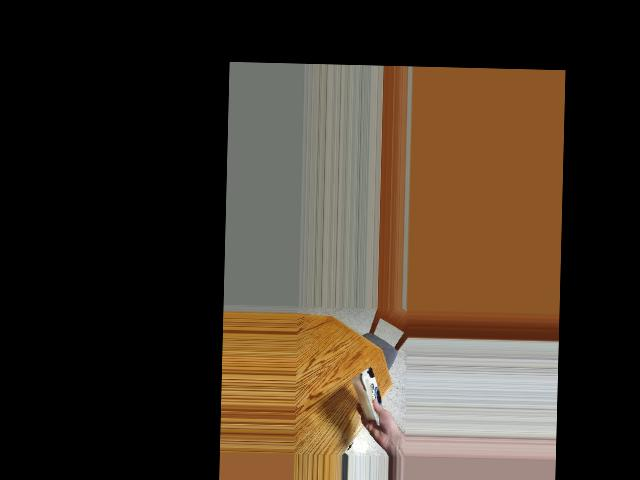cheese: (348, 369, 392, 420)
